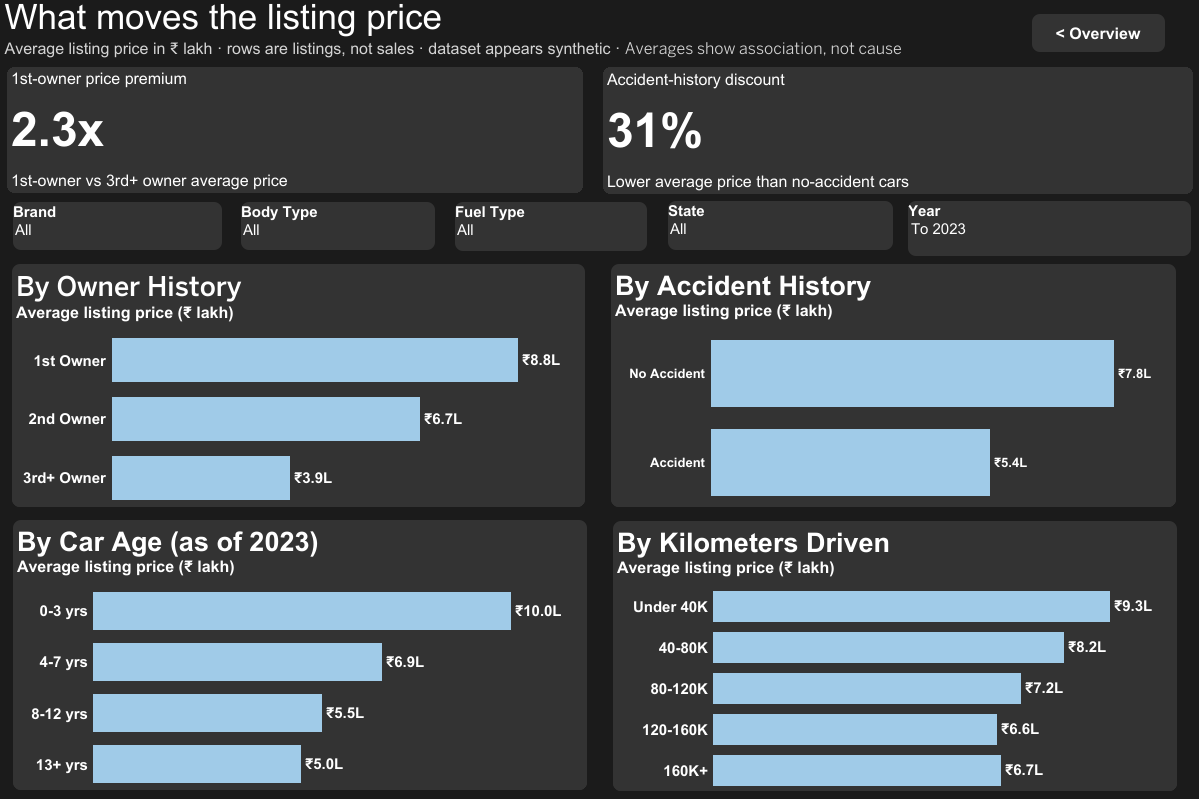

Layout of this report page (visuals, bound fields, positions):
{"tool":"tableau","page":{"name":"Price Drivers","canvas":[1200,800],"ordinal":1},"visuals":[{"type":"dashboard-object","box":[1032,14,133,38]},{"type":"worksheet","title":"KPI Owner Premium","mark":"Automatic","box":[7,67,576,126]},{"type":"worksheet","title":"KPI Accident Discount","mark":"Automatic","box":[603,67,590,127]},{"type":"filter","title":"Price by Owner","param":"[federated.1wd65dm1nnz40j1ah6su61hf7s7d].[none:State:nk]","box":[668,201,225,49]},{"type":"filter","title":"Price by Owner","param":"[federated.1wd65dm1nnz40j1ah6su61hf7s7d].[none:Year:qk]","box":[908,201,283,55]},{"type":"filter","title":"Price by Owner","param":"[federated.1wd65dm1nnz40j1ah6su61hf7s7d].[none:Brand:nk]","box":[13,202,209,48]},{"type":"filter","title":"Price by Owner","param":"[federated.1wd65dm1nnz40j1ah6su61hf7s7d].[none:Car Type:nk]","box":[241,202,194,48]},{"type":"filter","title":"Price by Owner","param":"[federated.1wd65dm1nnz40j1ah6su61hf7s7d].[none:Fuel Type:nk]","box":[455,202,192,49]},{"type":"worksheet","title":"Price by Owner","mark":"Automatic","rows":["Owner"],"cols":["Calculation_0915682173853696"],"box":[12,264,573,243]},{"type":"worksheet","title":"Price by Accident","mark":"Automatic","rows":["Accidental"],"cols":["Calculation_0915682173853696"],"box":[611,264,565,243]},{"type":"worksheet","title":"Price by Age Band","mark":"Automatic","rows":["Age Band"],"cols":["Calculation_0915682173853696"],"box":[13,520,574,270]},{"type":"worksheet","title":"Price by Km Band","mark":"Automatic","rows":["Km Band"],"cols":["Calculation_0915682173853696"],"box":[613,521,564,270]}]}

Visuals, with their boxes in screenshot pixels (x1, y1, x2, y2), scaled from the page's 1200x800 canvas onto the 1199x799 screenshot:
dashboard-object: bbox(1031, 14, 1164, 52)
"KPI Owner Premium" worksheet: bbox(7, 67, 583, 193)
"KPI Accident Discount" worksheet: bbox(602, 67, 1192, 194)
"Price by Owner" filter: bbox(667, 201, 892, 250)
"Price by Owner" filter: bbox(907, 201, 1190, 256)
"Price by Owner" filter: bbox(13, 202, 222, 250)
"Price by Owner" filter: bbox(241, 202, 435, 250)
"Price by Owner" filter: bbox(455, 202, 646, 251)
"Price by Owner" worksheet: bbox(12, 264, 585, 506)
"Price by Accident" worksheet: bbox(610, 264, 1175, 506)
"Price by Age Band" worksheet: bbox(13, 519, 587, 789)
"Price by Km Band" worksheet: bbox(612, 520, 1176, 790)
